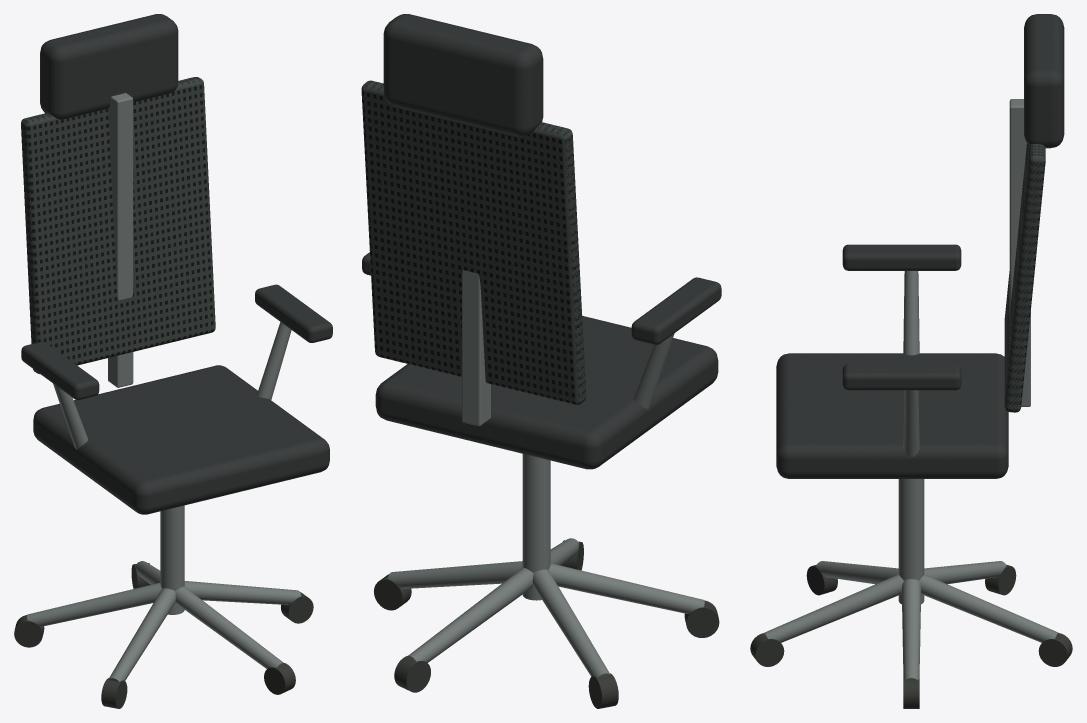
The model's file is jarvfjallet.glb.
The picture shows the model from 3 angles, left to right: view 1: azimuth 30°, elevation 25°; view 2: azimuth 150°, elevation 25°; view 3: azimuth 270°, elevation 25°; orthographic projection. The views are drawn at different scales.
Parts seen in each view (by area): view 1: JÄRVFJÄLLET Office chair with armrests; view 2: JÄRVFJÄLLET Office chair with armrests; view 3: JÄRVFJÄLLET Office chair with armrests.
Boxes of the visible parts, x1,y1,x2,y2 form: JÄRVFJÄLLET Office chair with armrests: [14, 14, 332, 708]; JÄRVFJÄLLET Office chair with armrests: [361, 14, 721, 708]; JÄRVFJÄLLET Office chair with armrests: [750, 14, 1072, 708].
Bounding box in the file's own units: 0.68 × 1.4 × 0.68.
Materials: 4 (3 with a texture image).
